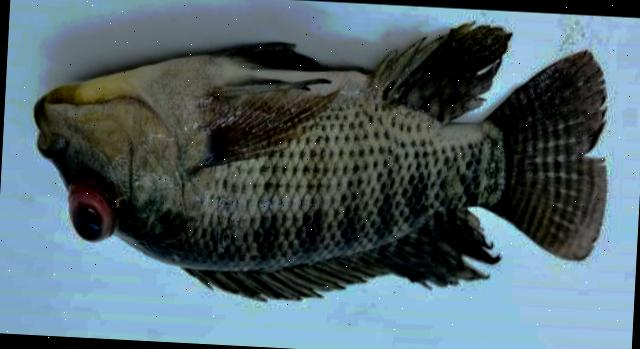Streptococcus: (34, 24, 606, 299), (34, 23, 606, 298)
